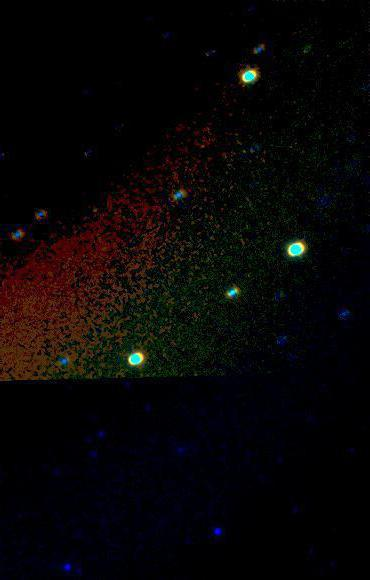star: (81, 196, 111, 226)
